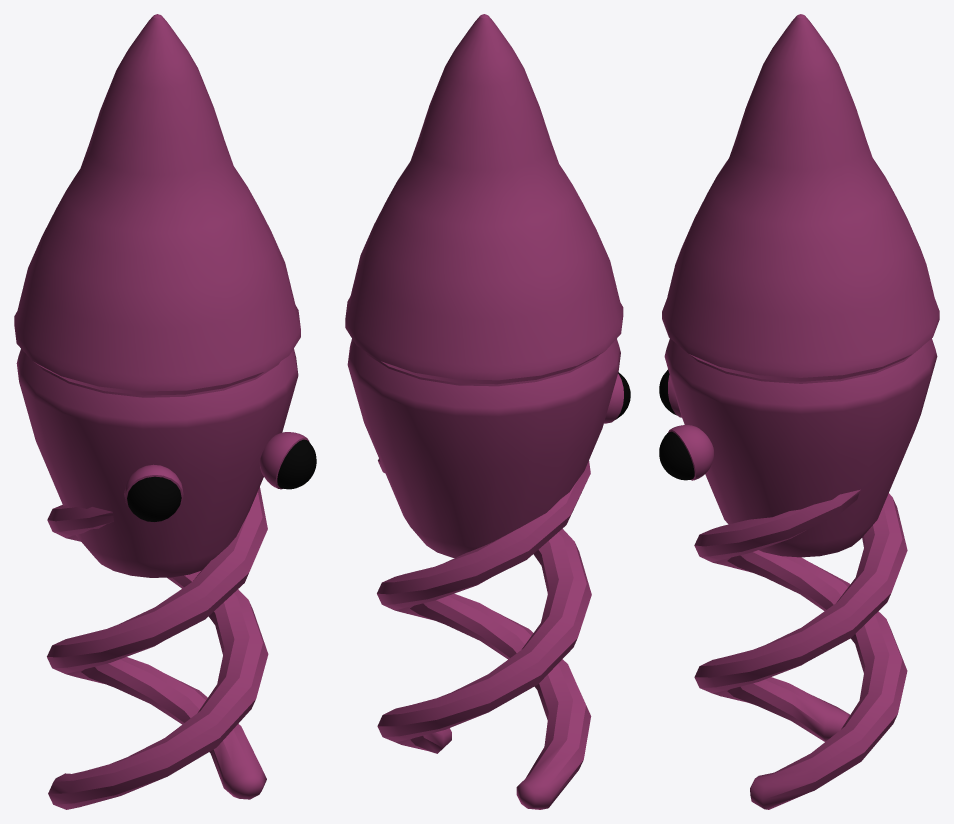
Rendered from Squid.fbx.
3 views of the same model, side by side, from view 1: azimuth 30°, elevation 25°; view 2: azimuth 150°, elevation 25°; view 3: azimuth 270°, elevation 25° (orthographic). The views are drawn at different scales.
Parts seen in each view (by area): view 1: pCylinder2; view 2: pCylinder2; view 3: pCylinder2.
Part boxes in pixels (<box>): pCylinder2: <box>14,14,316,809</box>; pCylinder2: <box>345,14,630,809</box>; pCylinder2: <box>659,14,939,809</box>.
Size of the model in its own units: 356 by 1076 by 360.
